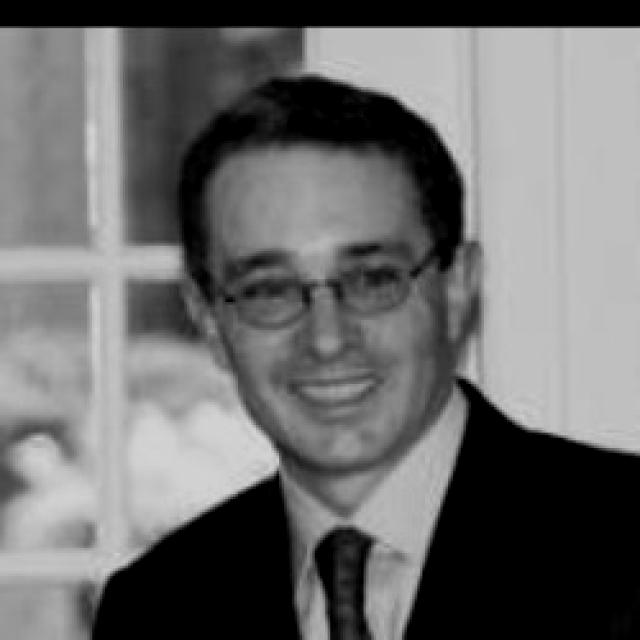real: (204, 147, 446, 470), (210, 246, 430, 320)
